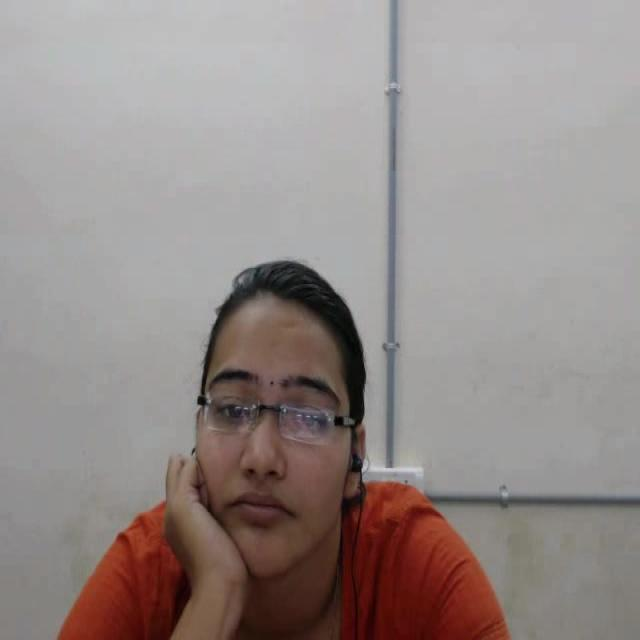Bored: (127, 224, 395, 631)
